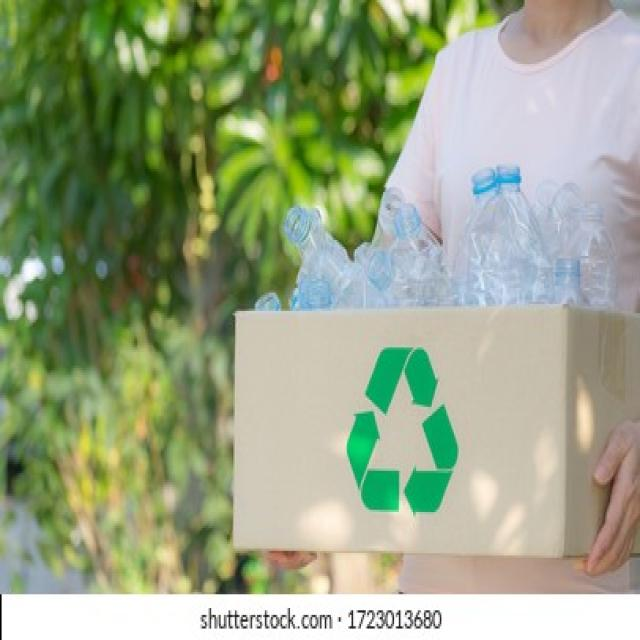plastic: (274, 190, 612, 311)
